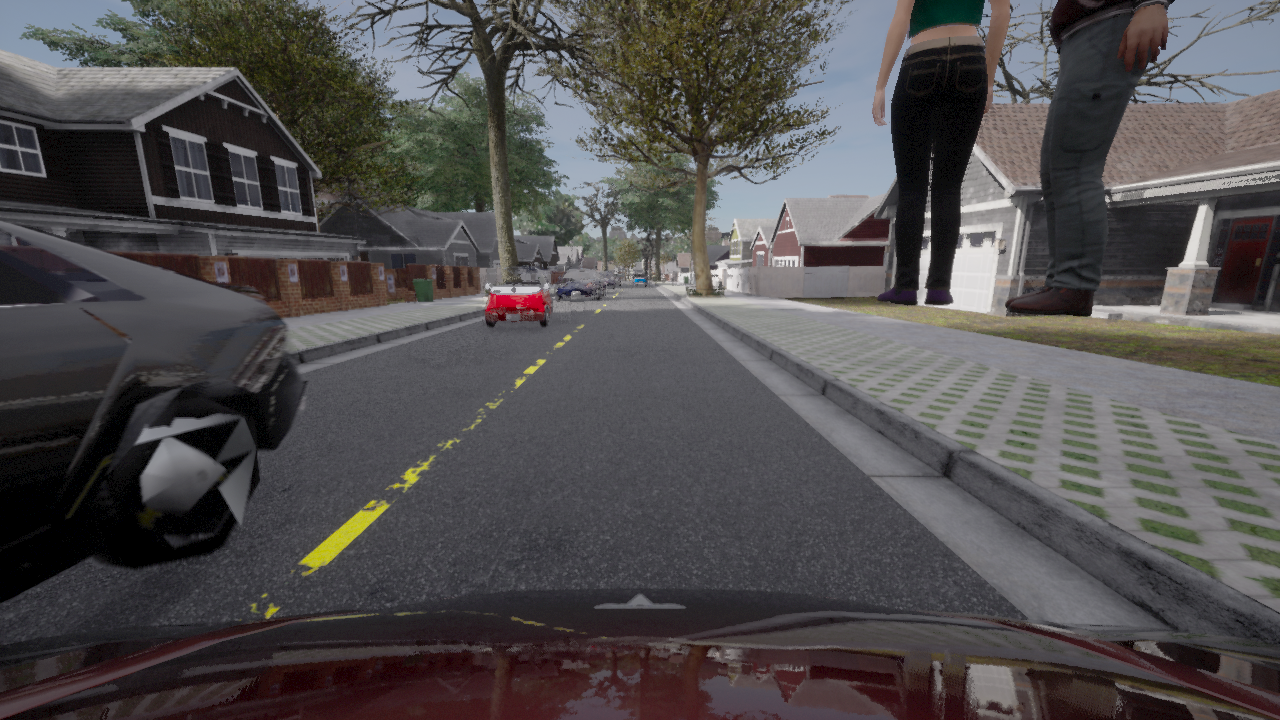cyclist: (0, 588, 1279, 719), (484, 267, 551, 327), (555, 268, 605, 300), (599, 271, 616, 288), (633, 273, 648, 287), (612, 271, 621, 286), (633, 274, 635, 277)
pedestrian: (1005, 0, 1174, 316), (871, 0, 1008, 305)
